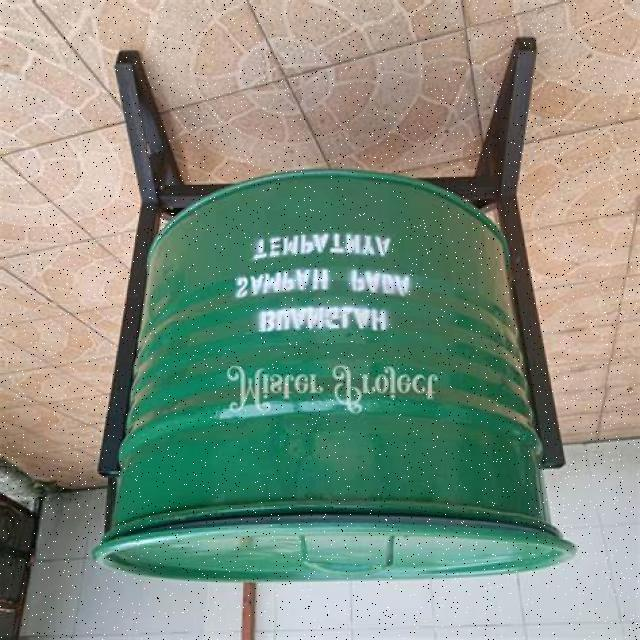garbage container: (85, 32, 588, 601)
